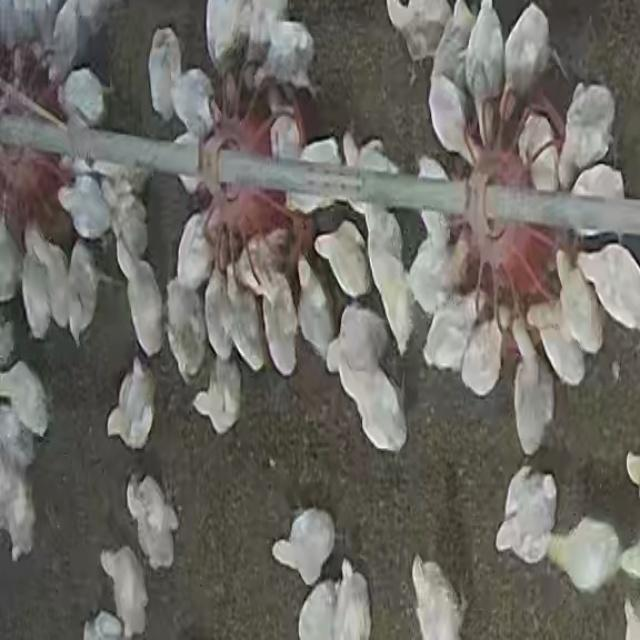chicken: (112, 221, 166, 361), (501, 0, 552, 121), (462, 0, 504, 145), (340, 364, 408, 450), (560, 87, 618, 180), (272, 504, 340, 583), (511, 319, 551, 453), (384, 1, 454, 75), (30, 223, 75, 337), (581, 244, 640, 329), (552, 516, 616, 591), (499, 468, 551, 560), (164, 271, 207, 380), (425, 292, 485, 370), (555, 249, 600, 352), (259, 262, 299, 376), (411, 555, 464, 640), (290, 137, 346, 217), (462, 307, 511, 397), (527, 308, 585, 384), (370, 257, 419, 346), (224, 261, 263, 372), (127, 482, 177, 566), (430, 3, 472, 102), (428, 72, 472, 166), (203, 263, 240, 374), (349, 137, 402, 214), (262, 17, 317, 91), (109, 362, 155, 450), (48, 2, 97, 84), (417, 232, 471, 304), (316, 222, 369, 294), (100, 548, 145, 632), (65, 240, 101, 344), (204, 1, 254, 74), (168, 66, 216, 142), (58, 171, 110, 241), (294, 254, 330, 354), (146, 25, 182, 125), (108, 177, 150, 262), (326, 311, 384, 372), (516, 110, 558, 193), (0, 365, 49, 434), (194, 363, 240, 436), (175, 210, 215, 293), (337, 555, 374, 640), (0, 466, 33, 559), (60, 66, 106, 128), (172, 130, 208, 200), (568, 163, 624, 205), (0, 407, 38, 467), (0, 207, 24, 302), (363, 205, 402, 258), (297, 583, 333, 640), (81, 610, 126, 640)
